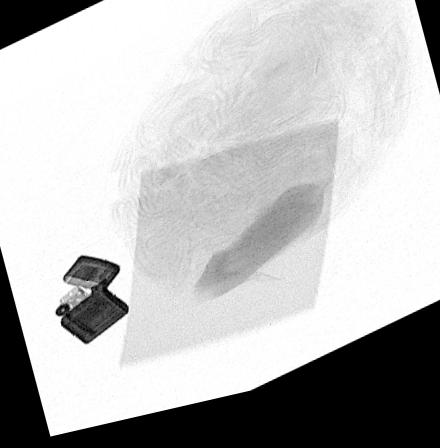Lighter: (52, 258, 128, 348)
